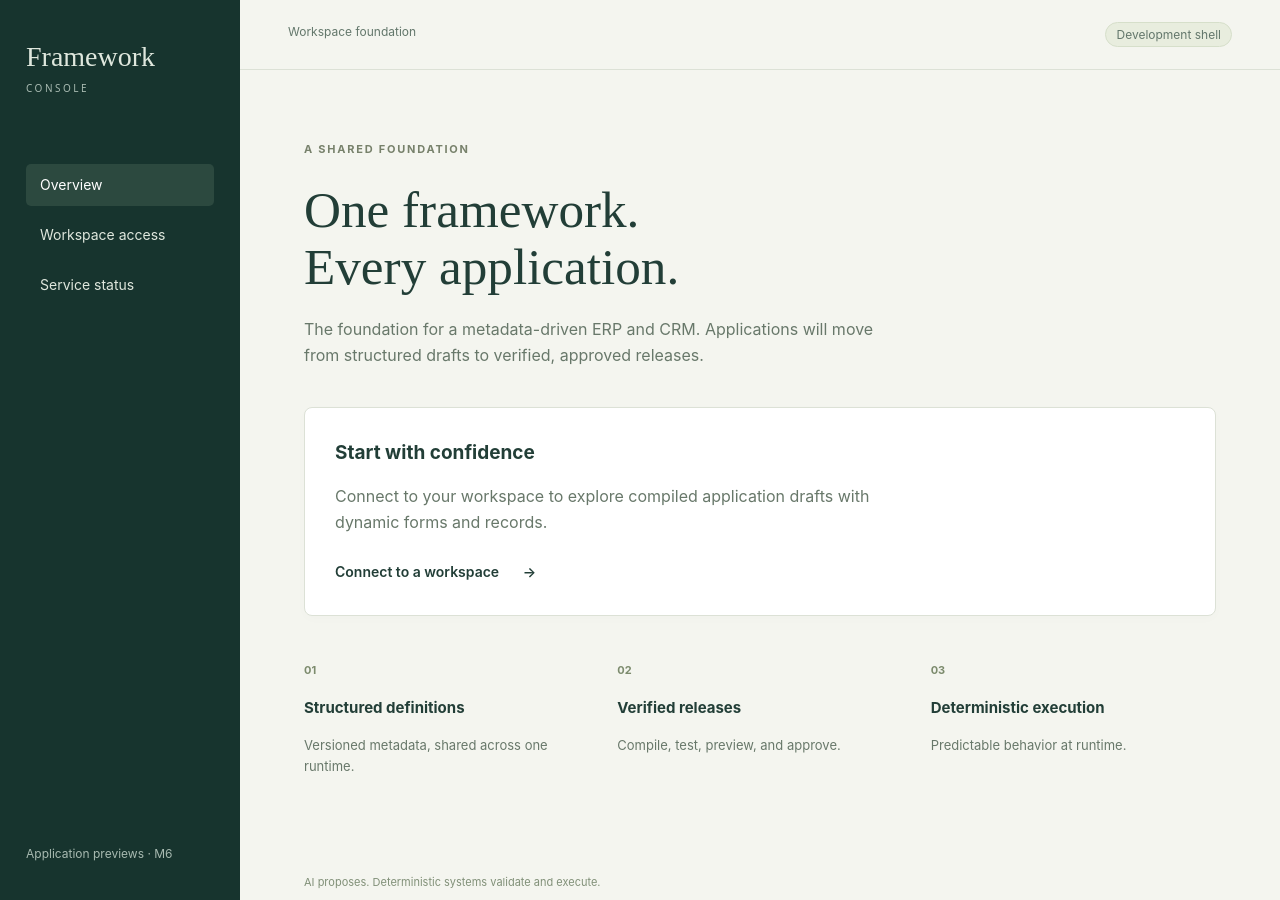
Scenario: routes the application shell without ERP pages
Expected: the heading "One framework.Every application." is shown, left=304, top=181, right=679, bottom=295
Click the link "Service status": [87, 285] box left=40, top=276, right=134, bottom=293
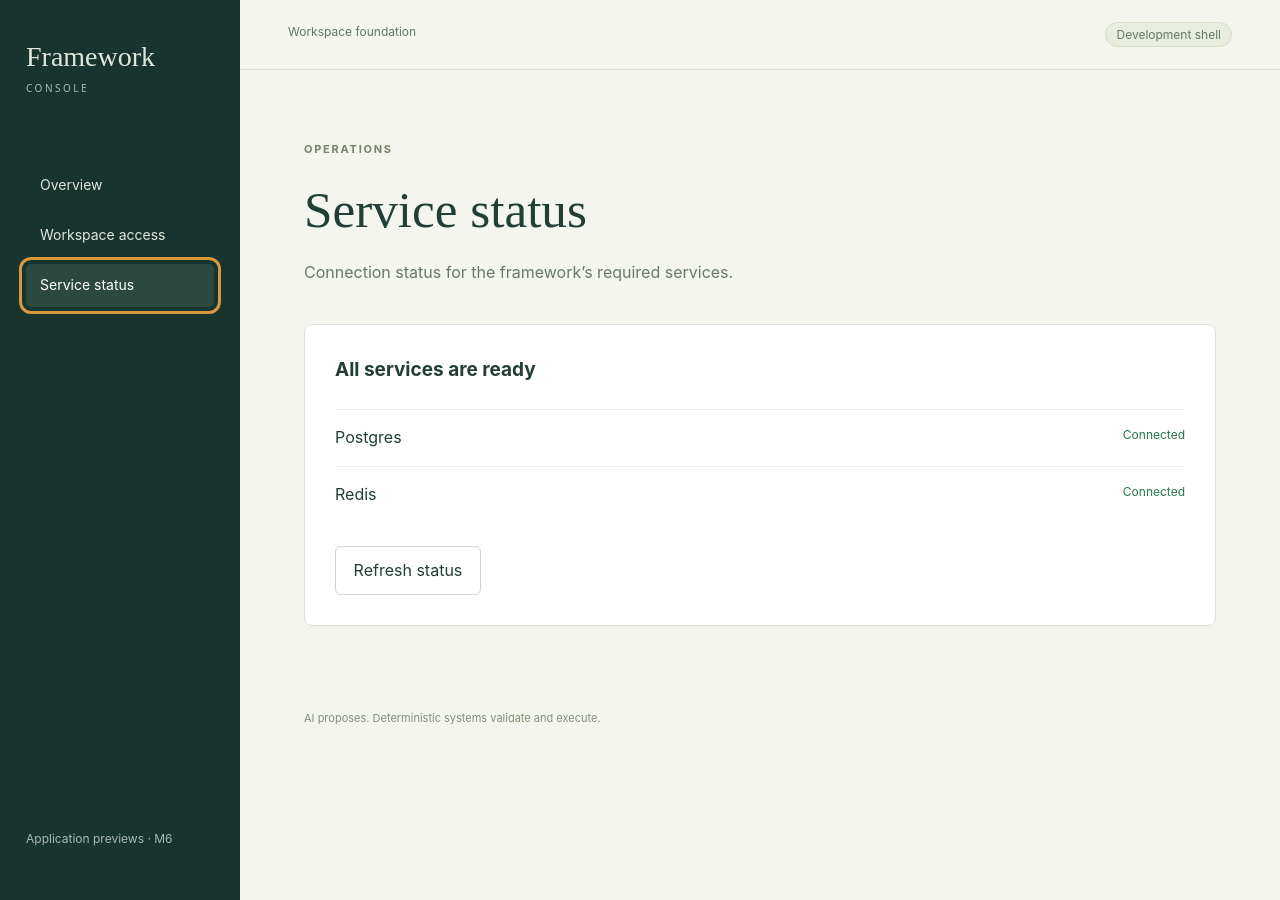
Result: the heading "All services are ready" is shown at left=335, top=358, right=536, bottom=381
Result: the text "Connected" is shown 2 times at left=1123, top=427, right=1185, bottom=442; left=1123, top=484, right=1185, bottom=499
